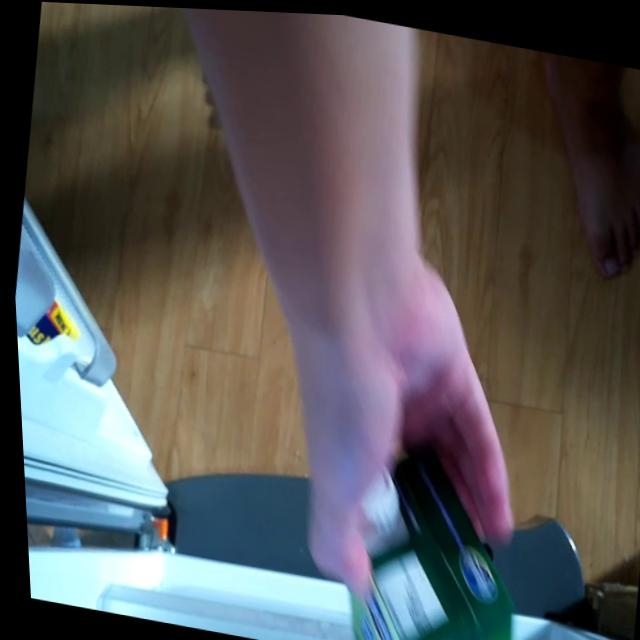milk: (325, 455, 530, 640)
